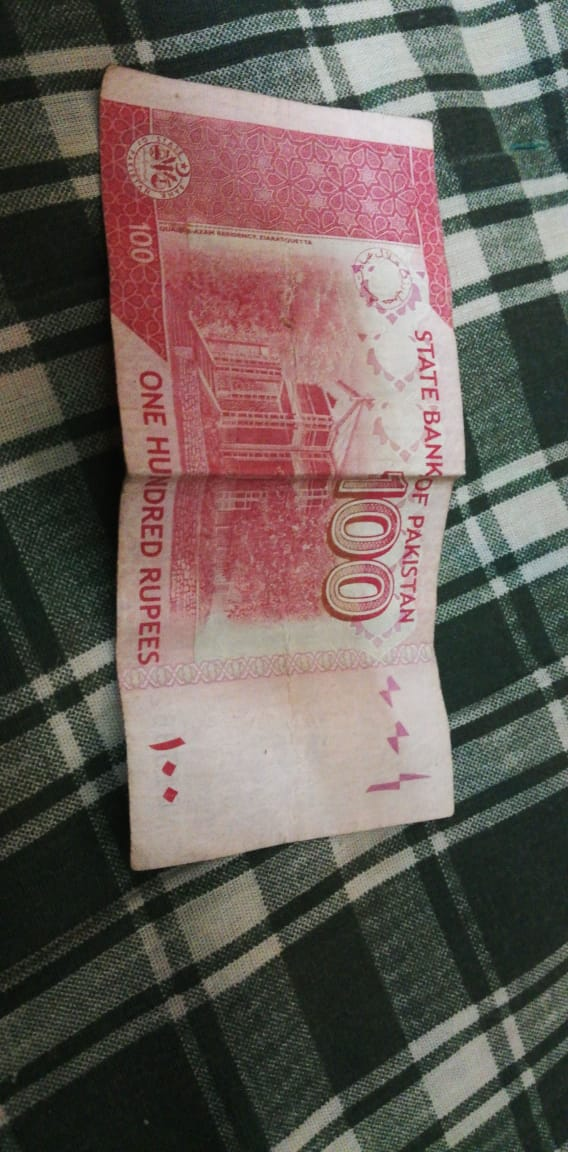100 rupee: (93, 47, 475, 875)
